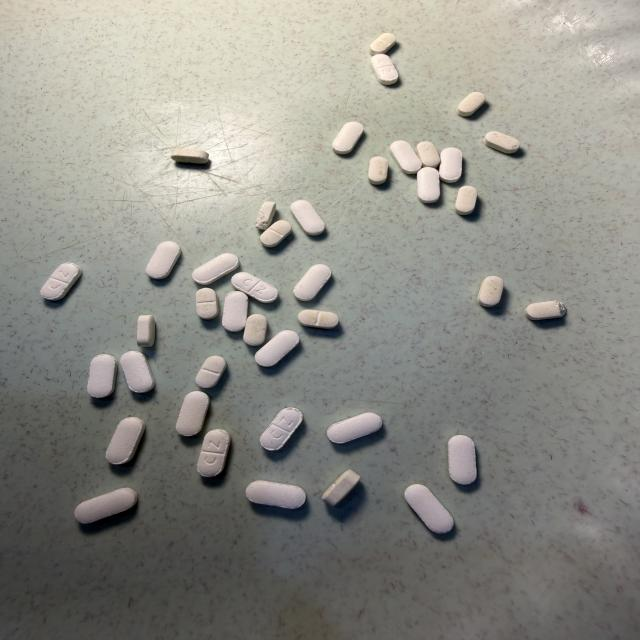pill: (405, 484, 453, 533), (75, 488, 137, 524), (106, 417, 145, 464), (260, 408, 302, 450), (327, 413, 382, 443), (246, 481, 306, 508), (255, 330, 299, 366), (197, 430, 230, 477), (41, 263, 81, 301), (176, 391, 209, 436), (121, 351, 155, 393), (193, 254, 239, 285), (448, 435, 476, 484), (294, 264, 331, 301), (322, 470, 360, 506), (232, 273, 277, 303), (146, 241, 181, 279), (87, 354, 117, 397), (291, 200, 324, 235), (222, 291, 248, 331), (391, 141, 422, 174), (332, 122, 363, 154), (196, 356, 226, 388), (260, 220, 291, 247), (417, 167, 440, 203), (372, 54, 398, 85), (439, 148, 462, 183), (478, 276, 503, 307), (484, 132, 519, 154), (526, 301, 566, 320), (244, 314, 267, 346), (298, 310, 338, 328), (196, 288, 218, 319), (457, 92, 485, 116), (455, 186, 477, 216), (417, 142, 440, 168), (137, 315, 155, 347), (172, 148, 209, 163), (370, 33, 395, 55), (369, 156, 388, 184), (256, 201, 275, 229)
